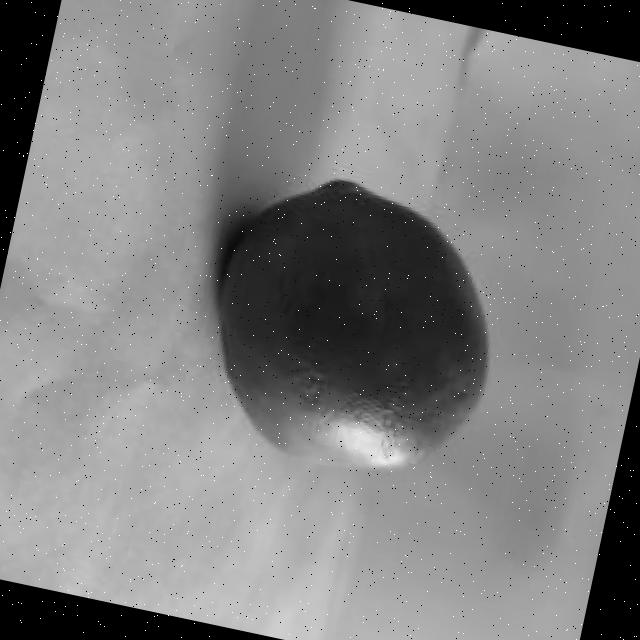Ripe: (179, 148, 528, 498)
